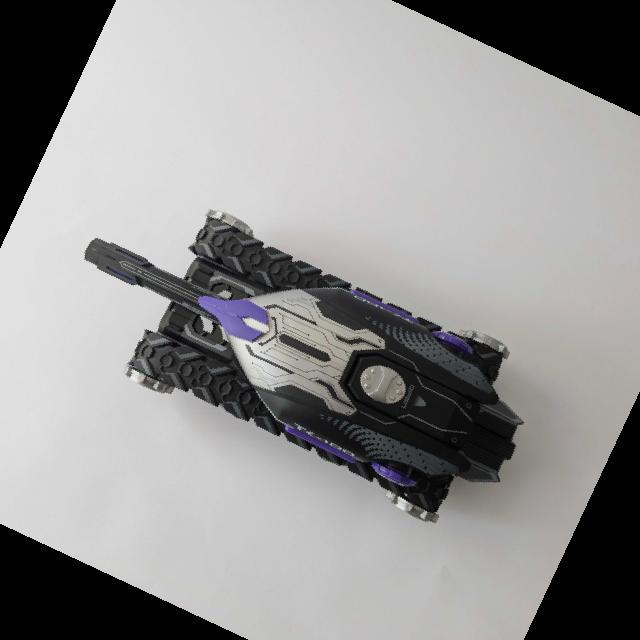barrel: (85, 235, 228, 323)
